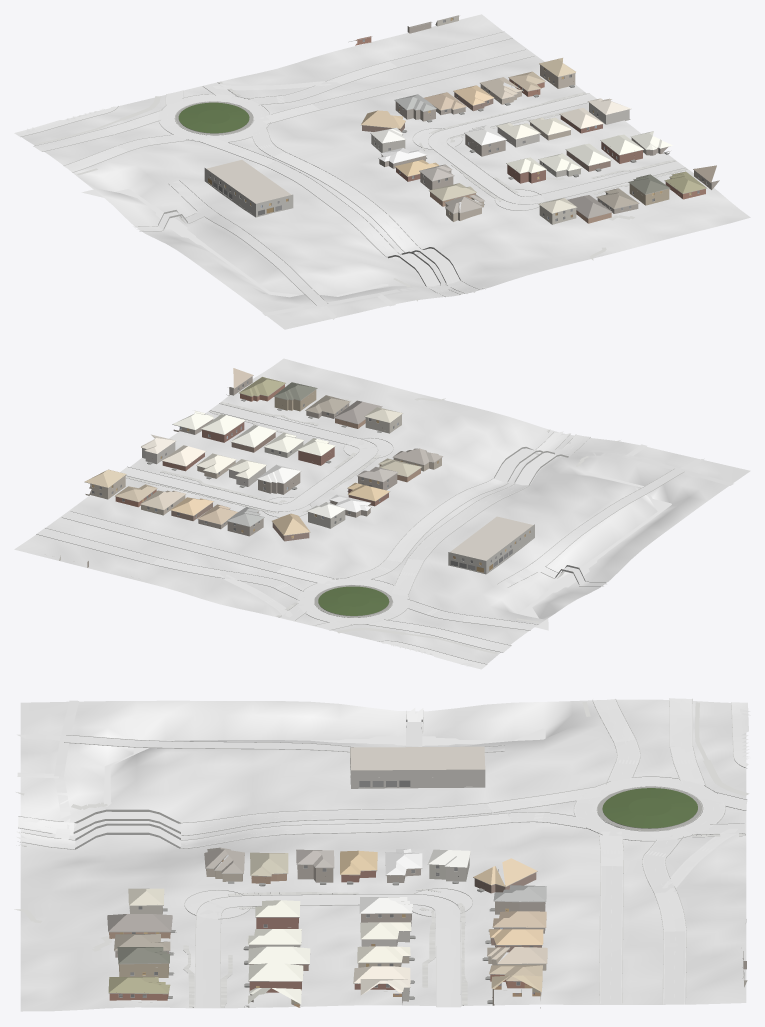
3 renders of one model, top to bottom at view 1: azimuth 30°, elevation 25°; view 2: azimuth 150°, elevation 25°; view 3: azimuth 270°, elevation 25°, orthographic. The views are drawn at different scales.
Parts seen in each view (by area): view 1: ground, asphalt, roof, concrete, wall, curb, detail, walk, roof_flat, wall_stucco, water, wall_com (+4 smaller); view 2: ground, asphalt, roof, concrete, wall, curb, detail, walk, roof_flat, wall_stucco, water, mark_w (+4 smaller); view 3: ground, asphalt, roof, concrete, curb, detail, wall, walk, roof_flat, wall_com, mark_w, water (+5 smaller).
Boxes of the visible parts, x1,y1,x2,y2 form: ground: (21,14,750,329); asphalt: (34,32,533,296); roof: (361,58,716,218); concrete: (14,93,684,319); wall: (355,21,719,223); curb: (20,31,687,305); detail: (174,15,710,221); walk: (35,81,687,301); roof_flat: (206,160,291,203); wall_stucco: (371,15,580,224); water: (81,189,388,297); wall_com: (204,168,293,217); ground: (14,358,750,663); asphalt: (37,431,589,652); roof: (84,368,442,535); concrete: (120,404,733,669); wall: (87,376,441,567); curb: (36,403,684,664); detail: (45,375,531,617); walk: (125,398,620,654); roof_flat: (450,516,533,560); wall_stucco: (59,414,401,560); water: (518,471,671,630); mark_w: (40,433,589,651); ground: (20,699,746,1011); asphalt: (16,698,747,1004); roof: (107,847,547,1003); concrete: (17,700,750,1007); curb: (18,698,747,1007); detail: (108,756,746,1007); wall: (109,865,746,1007); walk: (14,701,749,1007); roof_flat: (350,746,485,770); wall_com: (350,747,485,788); mark_w: (19,699,745,1004); water: (103,728,545,806).
Bounding box in the file's own units: 256 × 19.69 × 254.
